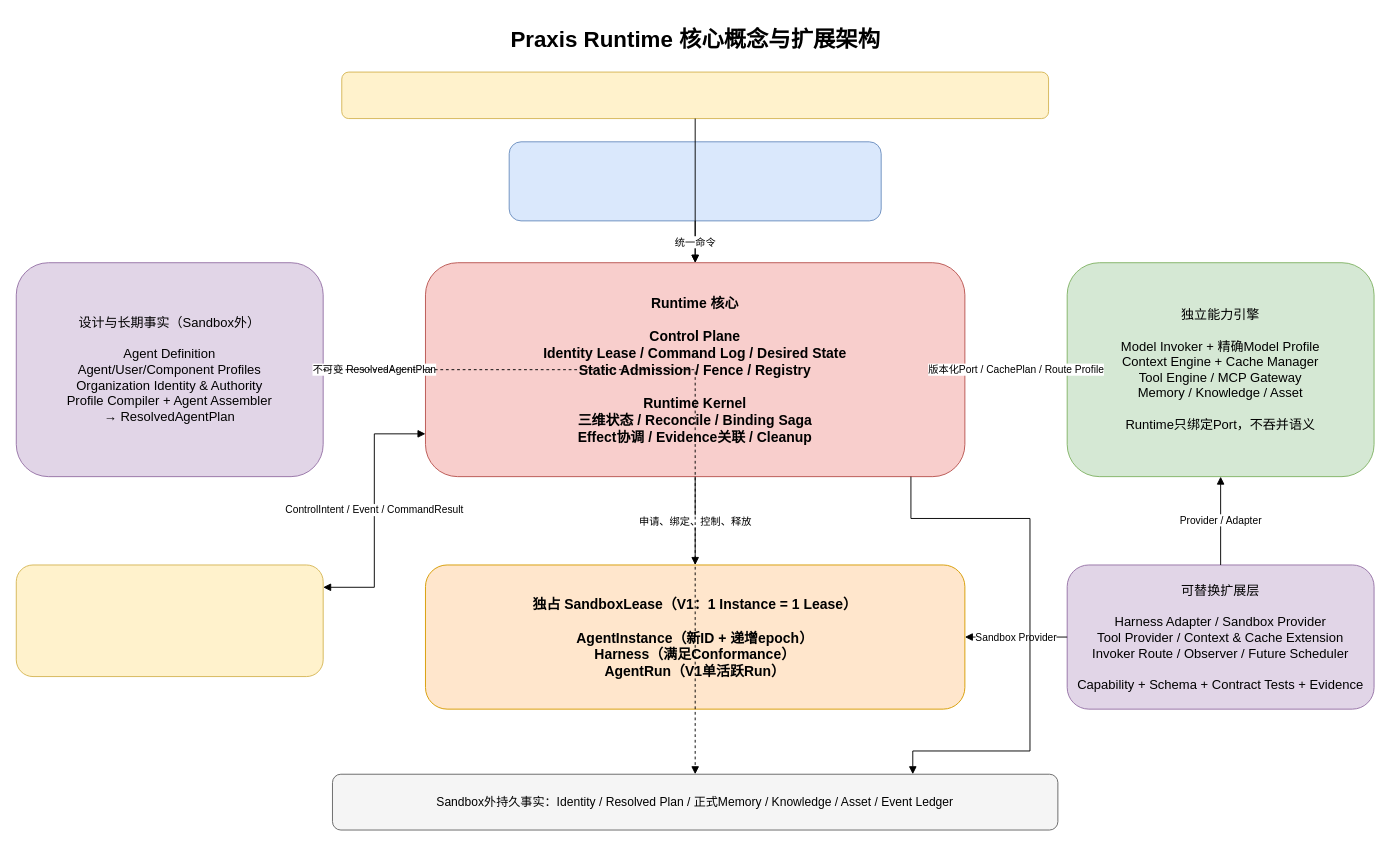
Image size: 1390x846. Some labels were removed from this diagram. The shapes that lost their labels are listed below. From the top down, each one's box as (x1, y1, x2, y2) in pixels, then its label:
(341, 71, 1049, 119): 总原则：不干涉 AI 内部认知，只治理执行、权限、资源、证据与外部效果
(508, 141, 881, 221): 使用入口 REPL / Remote API / User SDK 共享 Application Command API
(15, 564, 323, 677): 治理与外部抓手 Human / Review / Management 只经认证、授权、带理由命令进入Runtime
